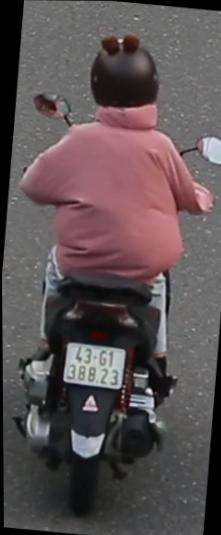LP: (59, 336, 129, 390)
helmet: (81, 20, 165, 136)
